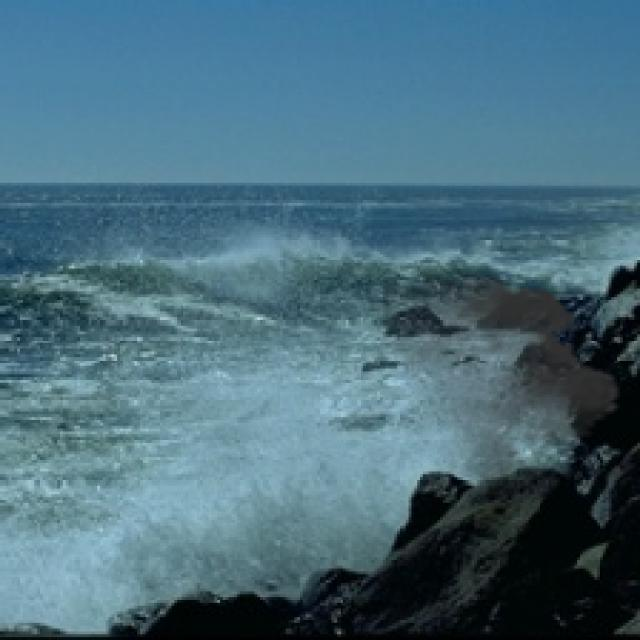smoke: (363, 268, 631, 488)
